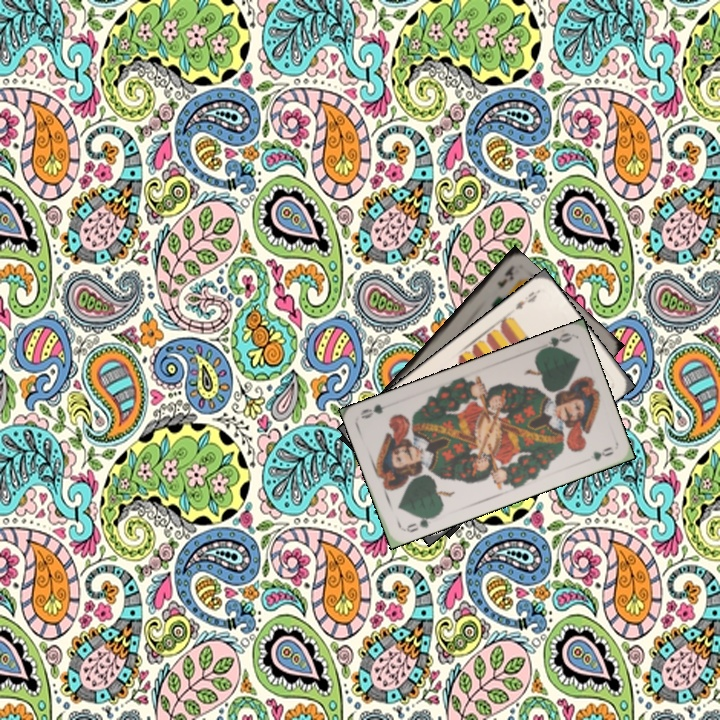E9: (511, 287, 541, 312)
EK: (493, 264, 516, 290)
GO: (535, 328, 573, 355), (399, 512, 438, 535)
